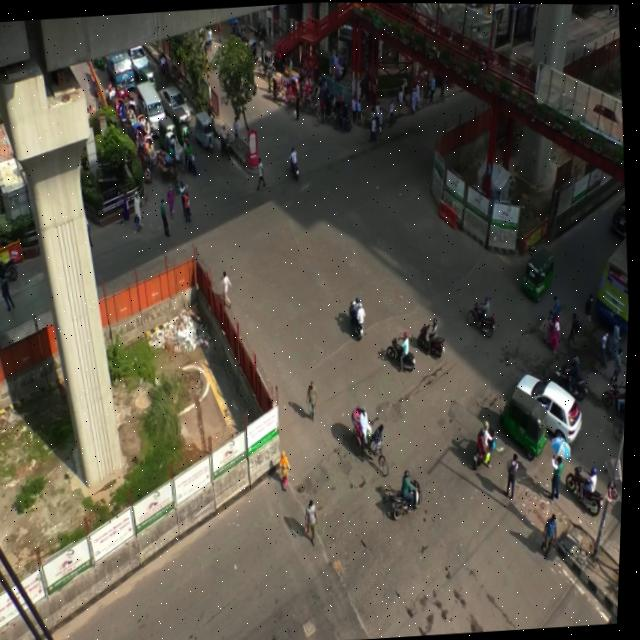cng: (496, 388, 558, 452), (517, 236, 560, 302), (194, 107, 217, 153), (155, 113, 178, 152), (174, 101, 193, 145), (136, 63, 160, 94)
rikshaw: (350, 398, 397, 484), (141, 129, 162, 180), (162, 129, 187, 171), (313, 89, 339, 125), (262, 67, 287, 104), (134, 108, 154, 150), (112, 97, 131, 136), (284, 71, 303, 110), (300, 81, 322, 110), (126, 98, 141, 136)
